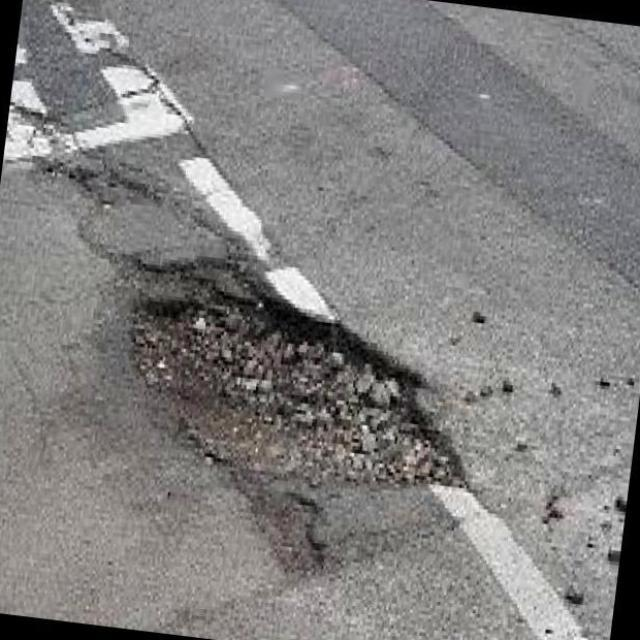Pathole: (104, 256, 468, 489), (17, 156, 155, 203)
